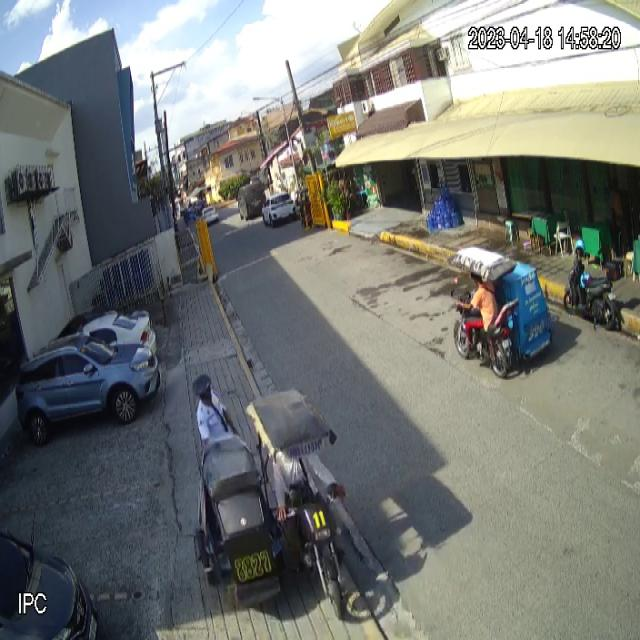Car: (16, 330, 162, 450)
Motorcycle: (563, 253, 626, 334)
Tricycle: (191, 386, 348, 622), (448, 246, 557, 379)
